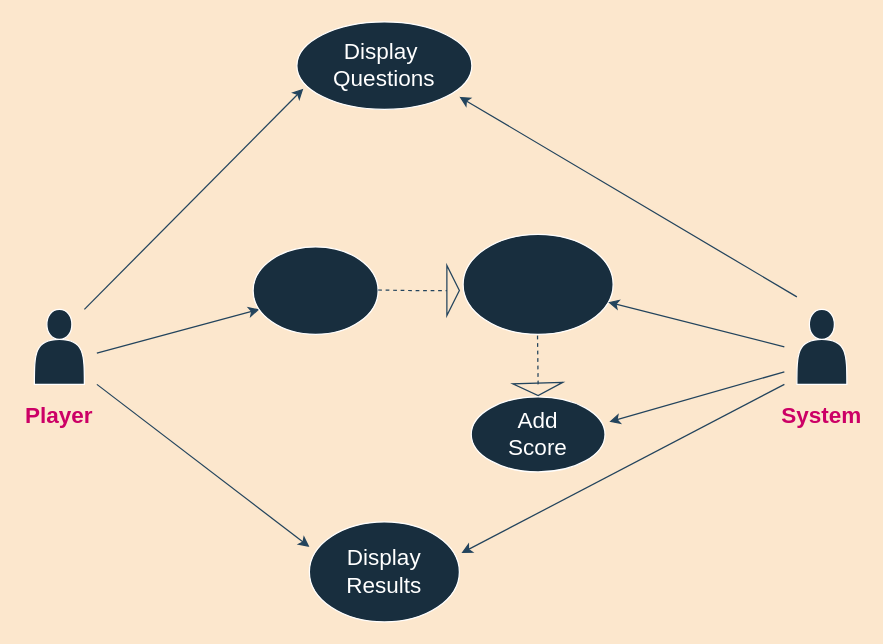
The diagram is 883 pixels wide and 644 high, and some of its shapes have lost their labels. The centre of each missing label's shape, as x and y in pixels:
"Select Answer" belongs at [315,290].
"Validate Answer" belongs at [537,283].
